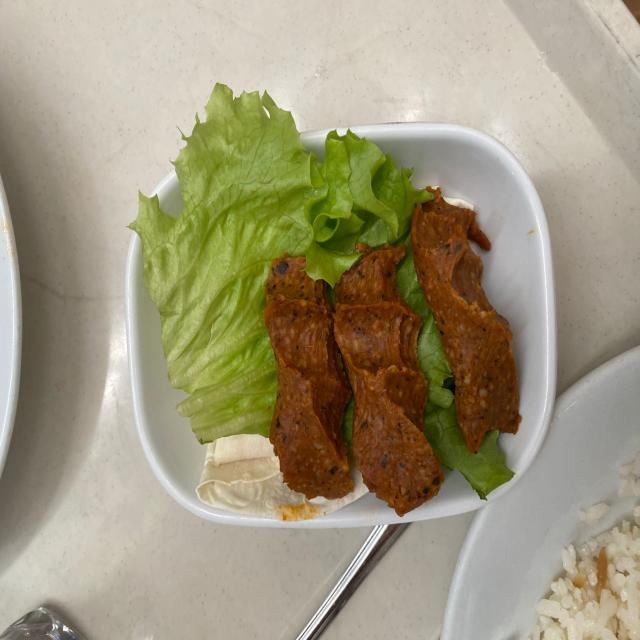yan_yemek: (126, 82, 541, 523)
